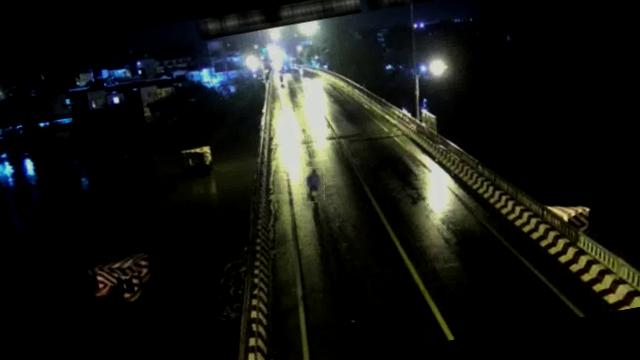Bike: (301, 165, 328, 203)
